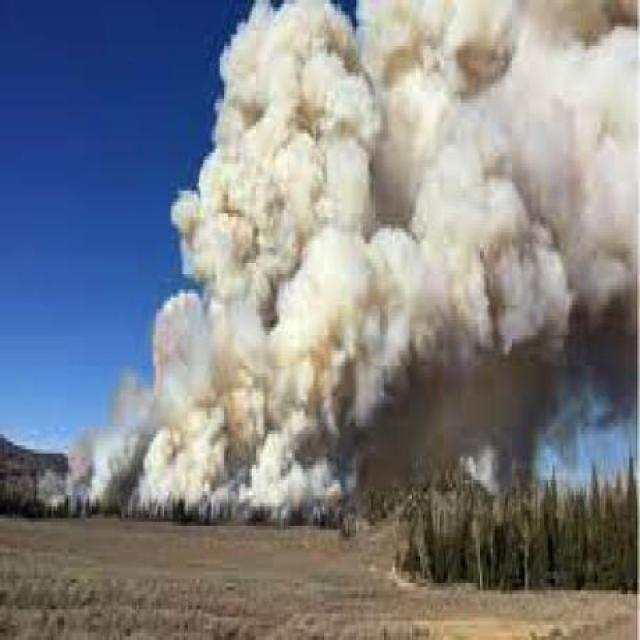Smoke: (77, 1, 640, 514)
